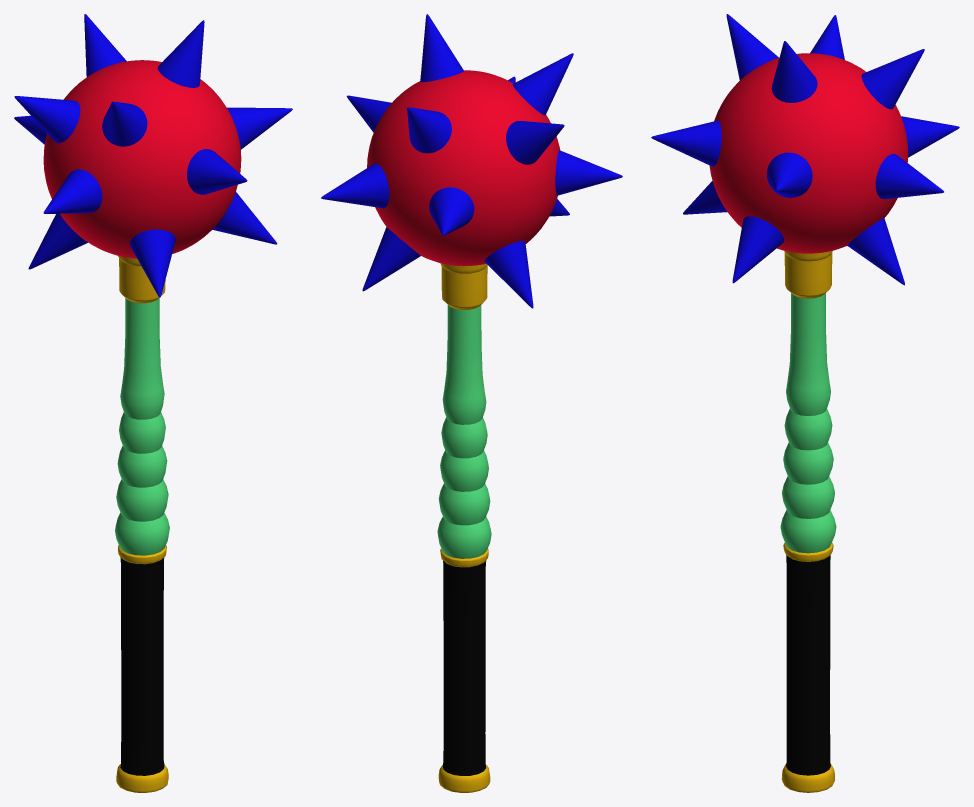
Rendered from morningstarV2.fbx.
3 renders of one model, left to right at view 1: azimuth 30°, elevation 25°; view 2: azimuth 150°, elevation 25°; view 3: azimuth 270°, elevation 25°, orthographic. The views are drawn at different scales.
Visible parts, largest first — view 1: morningstar; view 2: morningstar; view 3: morningstar.
Part boxes in pixels (x1=…): morningstar: x1=14, y1=14, x2=292, y2=792; morningstar: x1=321, y1=14, x2=622, y2=792; morningstar: x1=651, y1=14, x2=959, y2=792.
Size of the model in its own units: 39.83 by 109 by 39.85.
